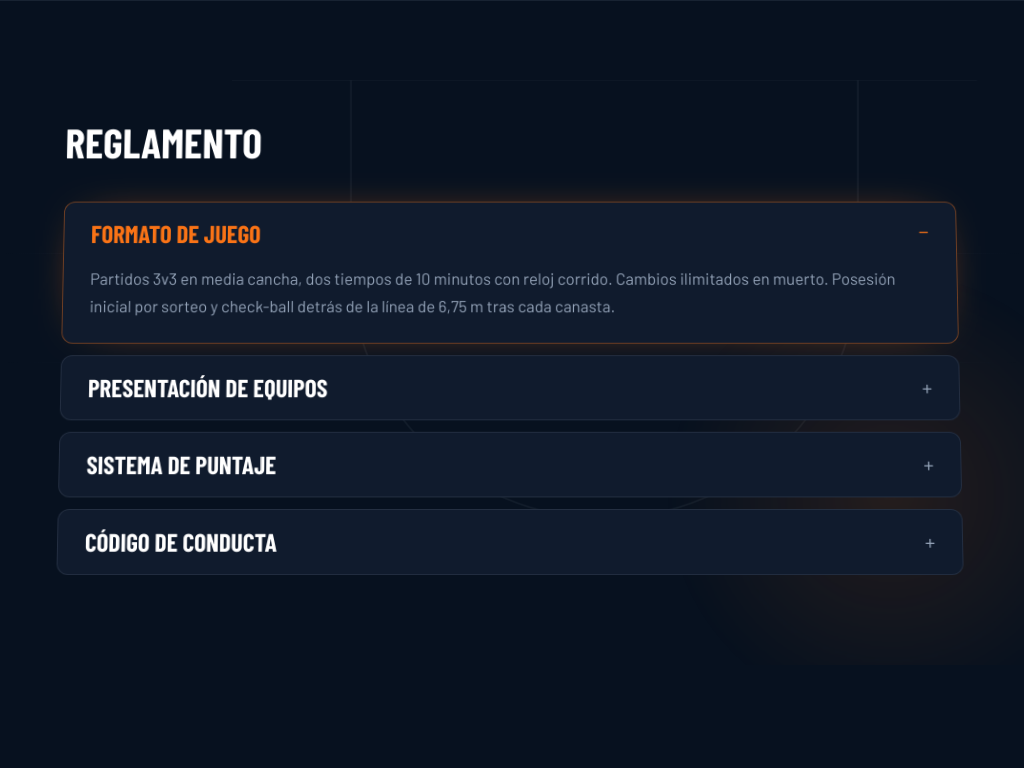
Test: Rules › abre un ítem cerrado y muestra su texto
Click the button "Código de conducta +".
click(181, 541)  # box x1=57 y1=510 x2=963 y2=574
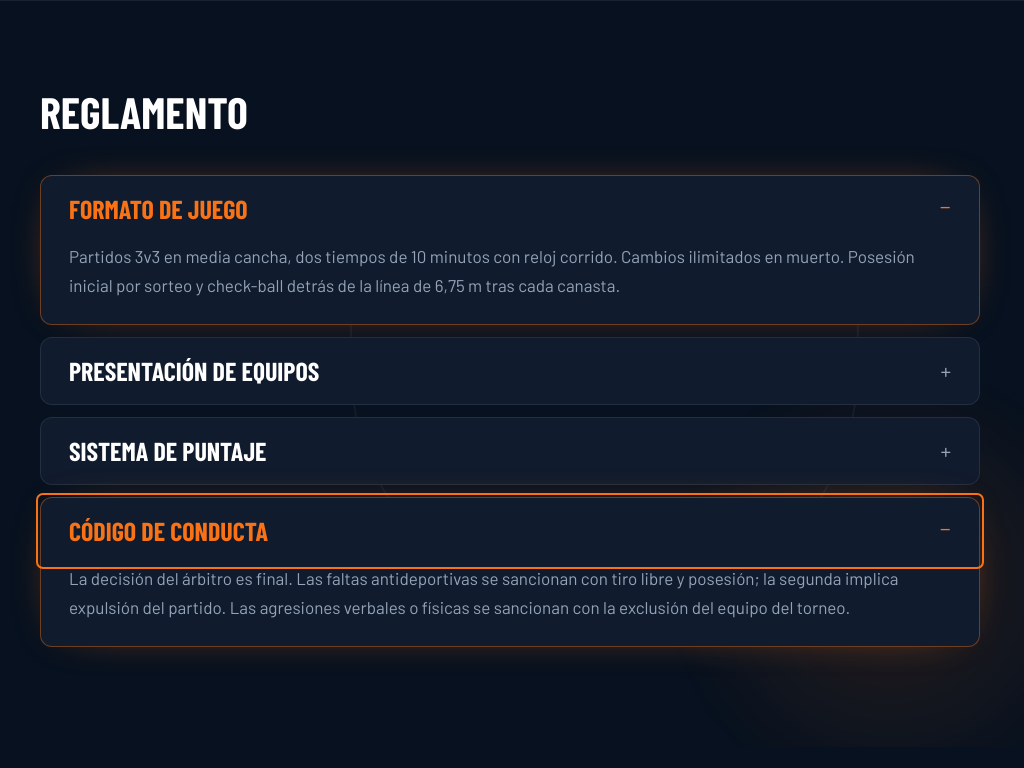
Expected: the button "Código de conducta −" is expanded, x1=41 y1=498 x2=979 y2=564
Expected: the text "La decisión del árbitro es final. Las faltas antideportivas se sancionan con tiro libre y posesión; la segunda implica e" is shown, x1=69 y1=568 x2=898 y2=617
